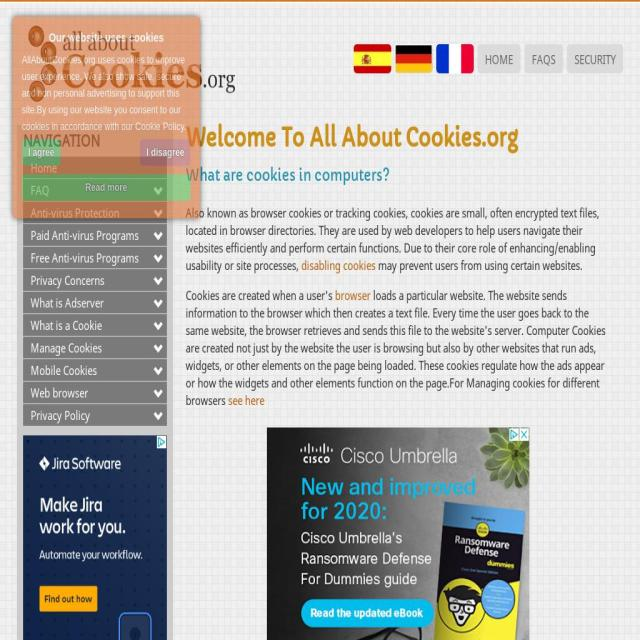button: (17, 15, 242, 116), (23, 179, 167, 201), (23, 224, 167, 246), (23, 269, 167, 291), (23, 314, 167, 336), (23, 359, 167, 381), (23, 404, 167, 426), (23, 157, 167, 178), (23, 202, 167, 223), (23, 247, 167, 268), (23, 292, 167, 313), (23, 337, 167, 358), (23, 382, 167, 403), (567, 44, 623, 74), (478, 44, 520, 74), (524, 44, 564, 74), (395, 44, 433, 74), (436, 44, 474, 74), (354, 44, 391, 74)
heading: (22, 29, 190, 46)
iframe: (185, 426, 610, 640), (23, 435, 167, 640)
image: (17, 16, 242, 112), (395, 44, 433, 74), (436, 44, 474, 74), (354, 44, 391, 74)
link: (301, 256, 376, 273), (335, 286, 371, 303), (228, 391, 264, 408)
text: (185, 286, 606, 408), (186, 204, 600, 274), (185, 120, 610, 156), (22, 54, 186, 132), (185, 164, 610, 188), (22, 174, 190, 201), (376, 256, 582, 273), (186, 286, 335, 303), (23, 134, 167, 148), (30, 249, 138, 266), (30, 227, 138, 243), (30, 204, 120, 221), (140, 139, 191, 166), (31, 294, 104, 311), (30, 339, 101, 356), (30, 272, 104, 288), (30, 317, 101, 333), (31, 362, 97, 378), (21, 139, 60, 166), (31, 384, 88, 401), (31, 407, 90, 423), (30, 182, 50, 198)
